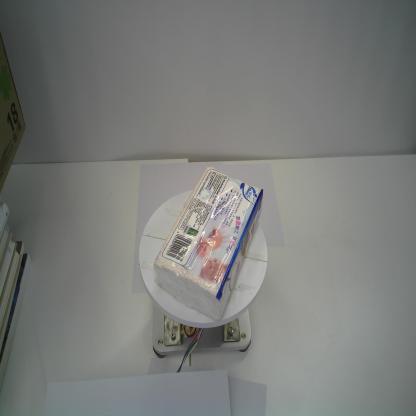Tissue: (153, 165, 263, 322)
